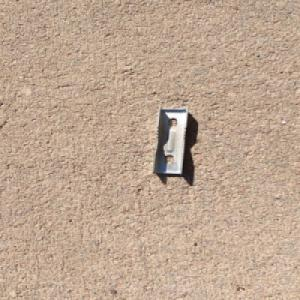ClampPart: (151, 104, 193, 175)
